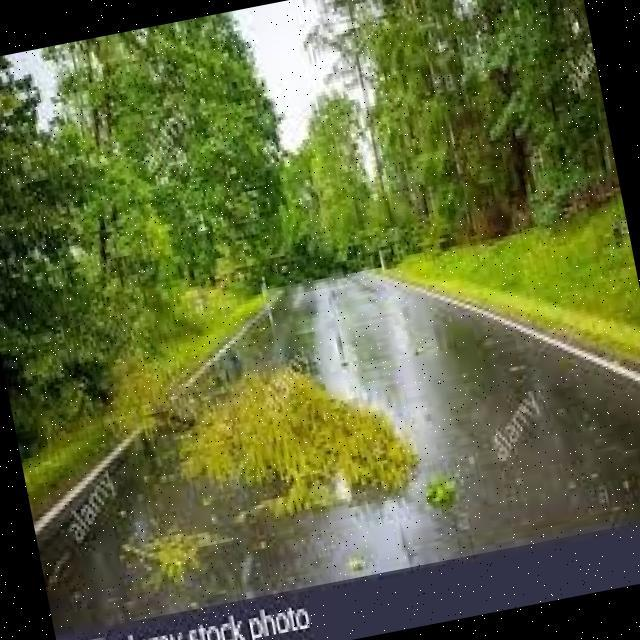fallen_object: (122, 324, 428, 552)
